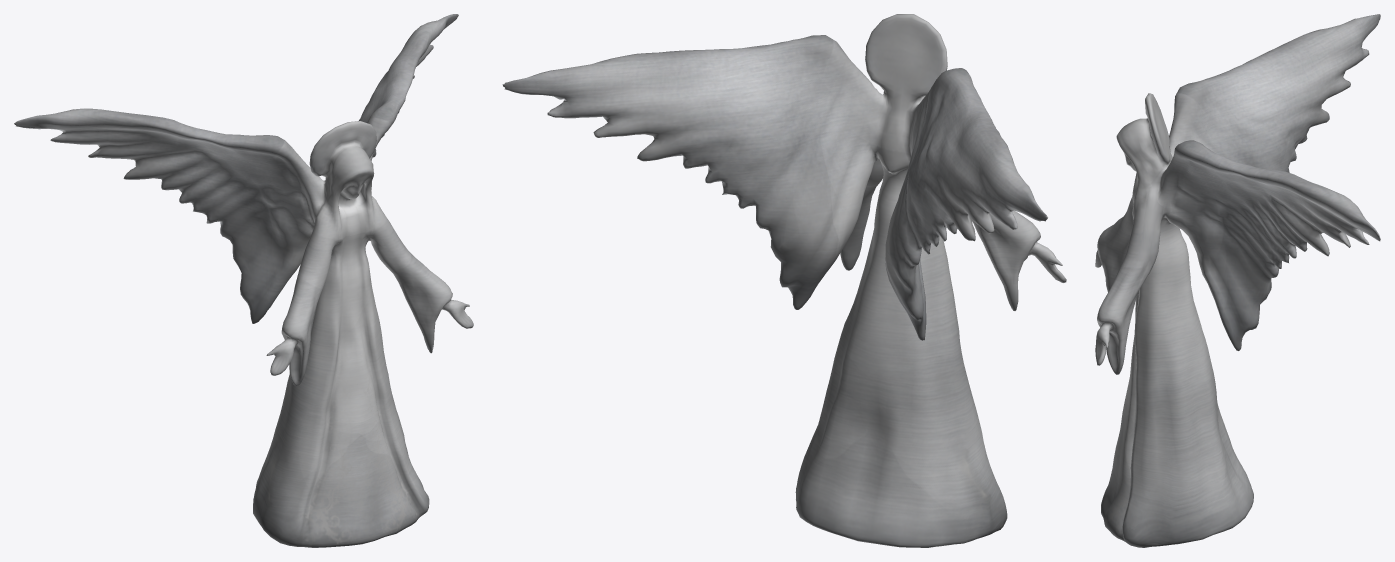
File: angel.glb
The picture shows the model from 3 angles, left to right: view 1: azimuth 30°, elevation 25°; view 2: azimuth 150°, elevation 25°; view 3: azimuth 270°, elevation 25°; orthographic projection. The views are drawn at different scales.
Visible parts, largest first — view 1: Group5651; view 2: Group5651; view 3: Group5651.
Part boxes in pixels (bbox=[...]): Group5651: bbox=[14, 14, 473, 547]; Group5651: bbox=[502, 14, 1066, 547]; Group5651: bbox=[1095, 14, 1380, 547].
Bounding box in the file's own units: 158 × 138 × 85.21.
Materials: 1 (1 with a texture image).
